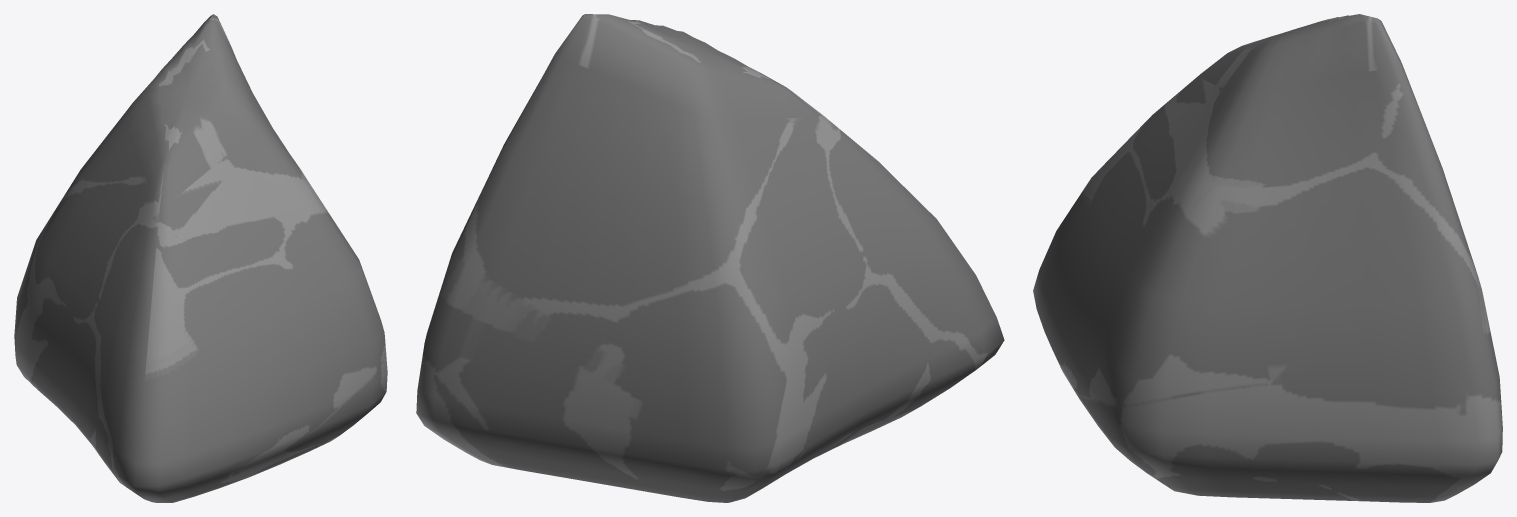
Rendered from CTS_E_OceanRockB.fbx.
3 views of the same model, side by side, from view 1: azimuth 30°, elevation 25°; view 2: azimuth 150°, elevation 25°; view 3: azimuth 270°, elevation 25° (orthographic). The views are drawn at different scales.
Parts seen in each view (by area): view 1: CTS_E_OceanRockB; view 2: CTS_E_OceanRockB; view 3: CTS_E_OceanRockB.
Boxes of the visible parts, <box> form: CTS_E_OceanRockB: <box>14,14,387,502</box>; CTS_E_OceanRockB: <box>416,14,1004,502</box>; CTS_E_OceanRockB: <box>1033,14,1502,502</box>.
Bounding box in the file's own units: 15235 × 17370 × 16318.
